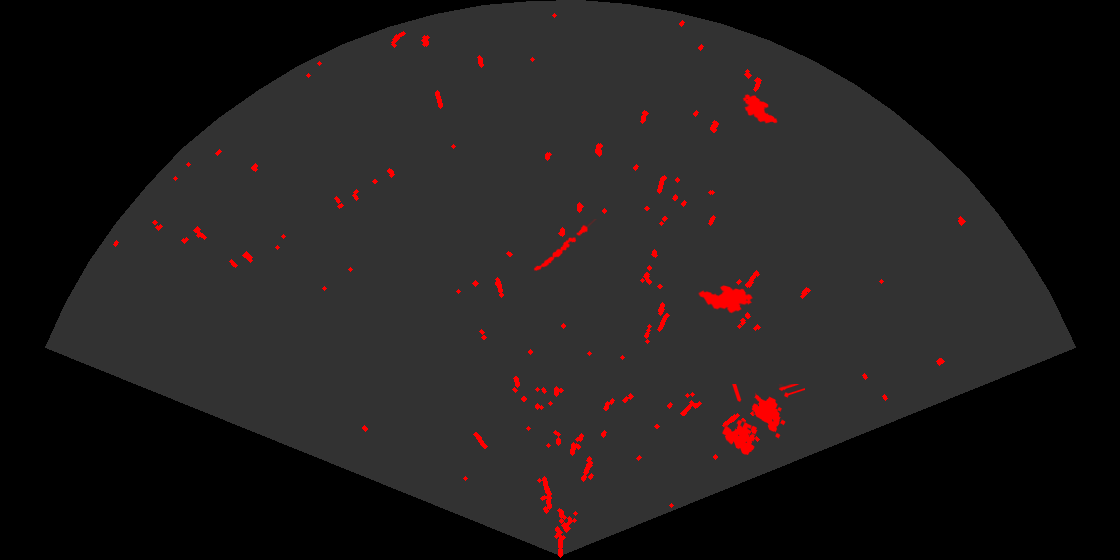AUV: (697, 284, 755, 315), (741, 92, 779, 125)
cage: (721, 384, 805, 457)
chain: (532, 219, 597, 272)
